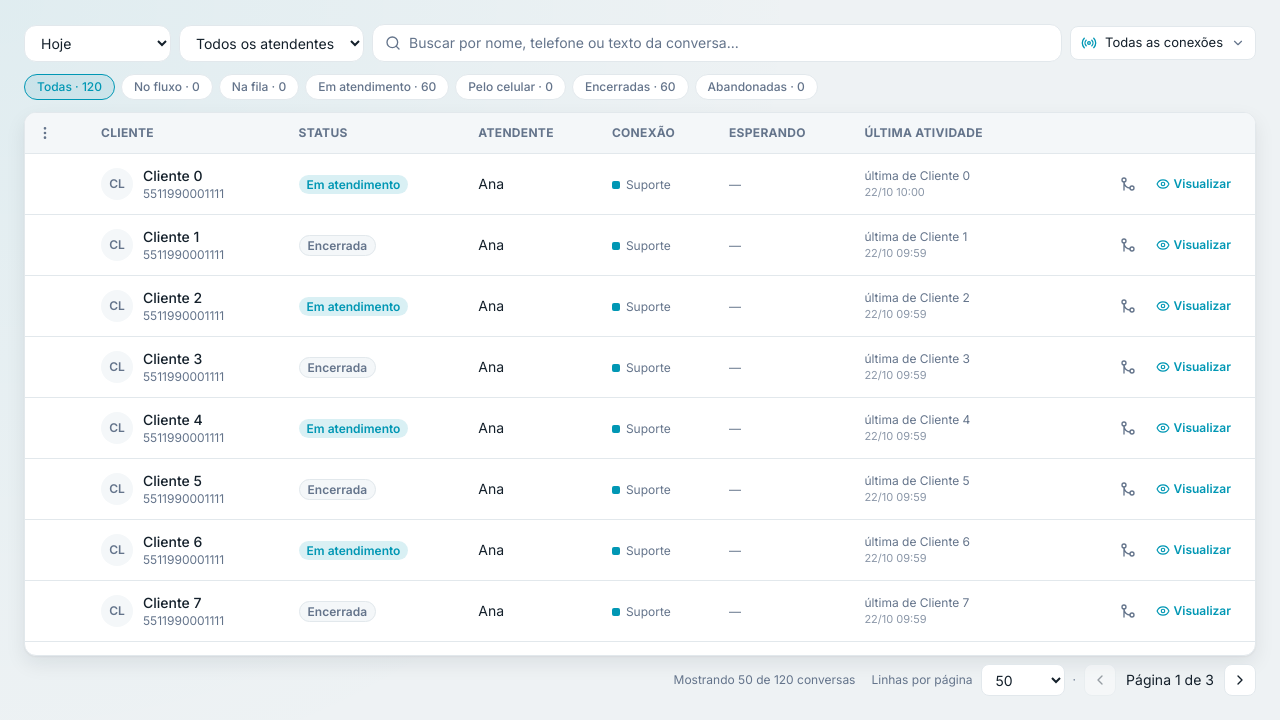
Scenario: Gestão: linhas por página e páginas › trocar as linhas por página volta para a página 1 e fica guardado
The width and height of the screenshot is (1280, 720).
Expected: the text "Página 1 de 3" is shown, [1124,670,1216,690]
Click the button named "Próxima página" at {"x": 1240, "y": 680}, box [1224,664,1256,696]
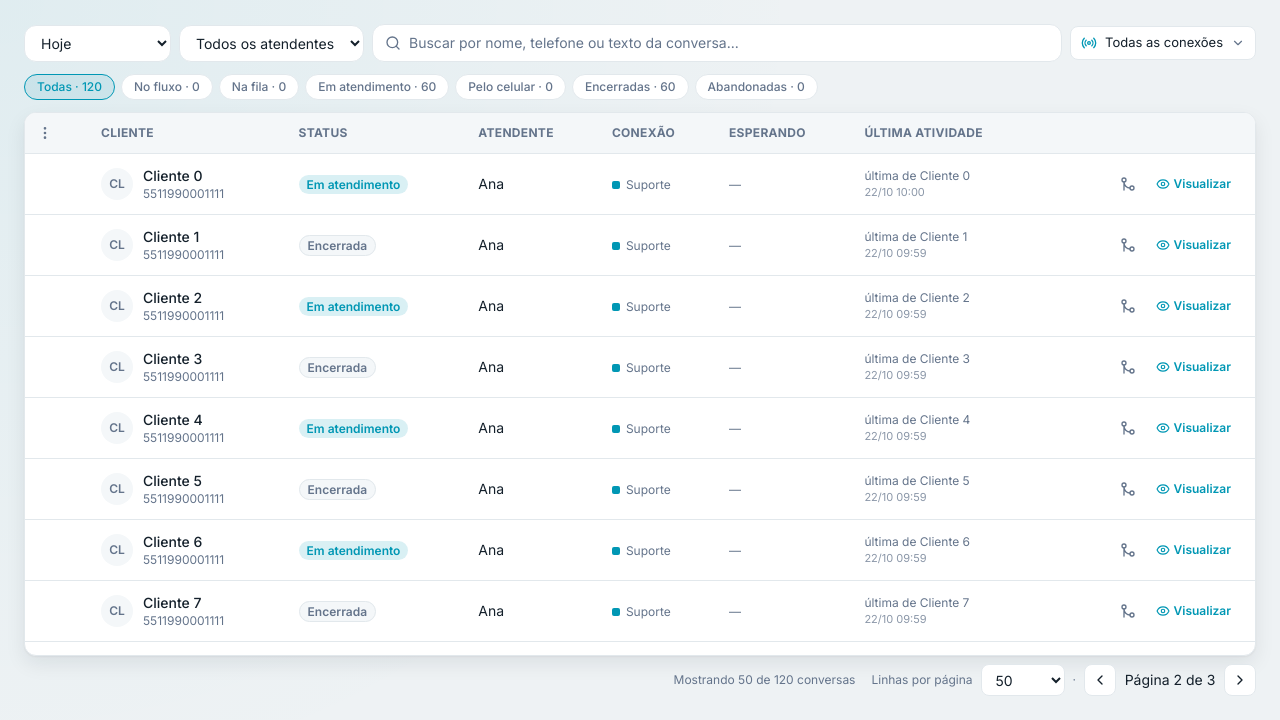
Now the text "Página 2 de 3" is shown, box [1124,670,1216,690]
Select "100" in the dropdown labelled "Linhas por página" at {"x": 1022, "y": 680}, box [980,664,1064,696]
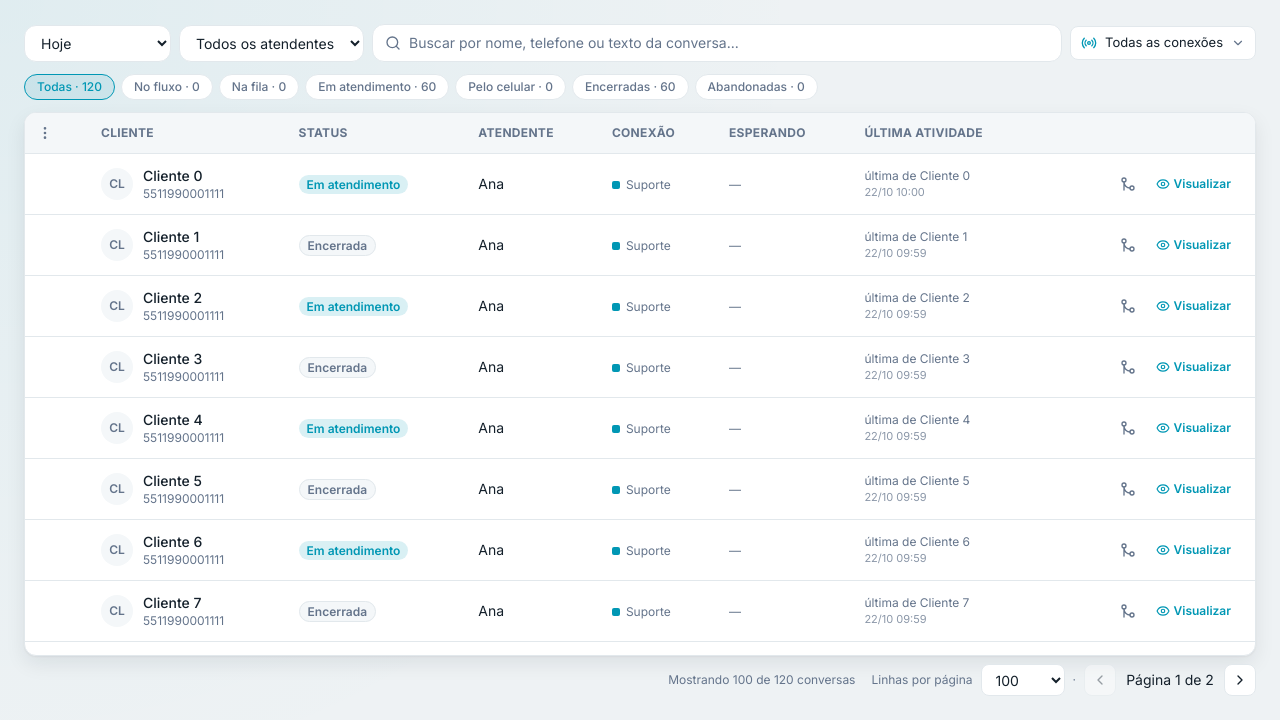
Now the text "Página 1 de 2" is shown, box [1124,670,1216,690]
